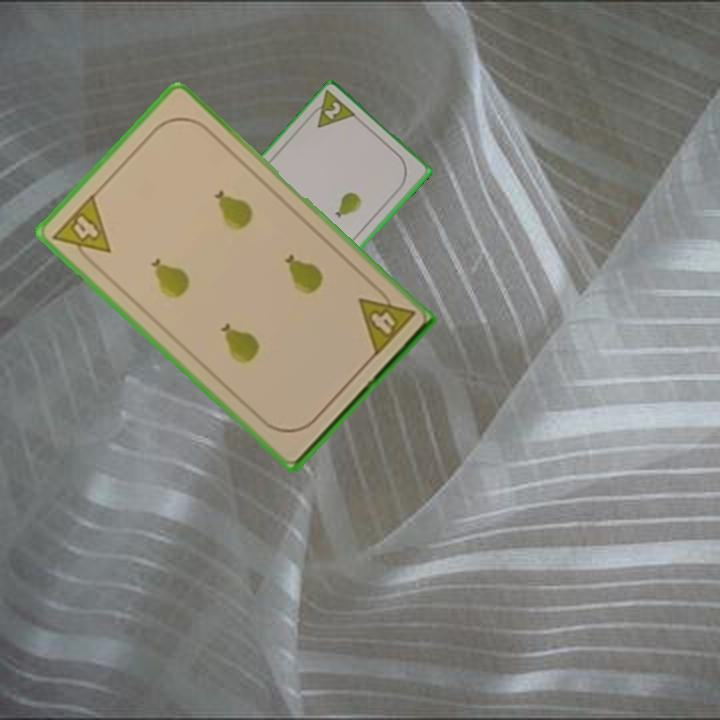2p: (305, 88, 360, 132)
4p: (49, 190, 114, 271), (354, 281, 418, 359)
